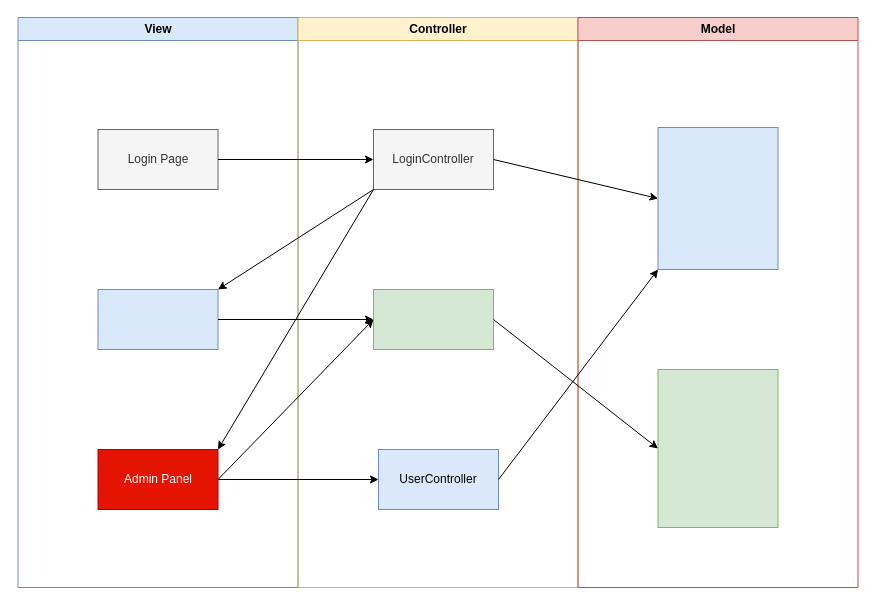
The diagram is 875 pixels wide and 605 high, and some of its shapes have lost their labels. The centre of each missing label's shape, as x and y in pixels:
TaskController: the point at 433,319
TaskModel: the point at 717,448
User Panel: the point at 157,319
UserModel: the point at 717,198
